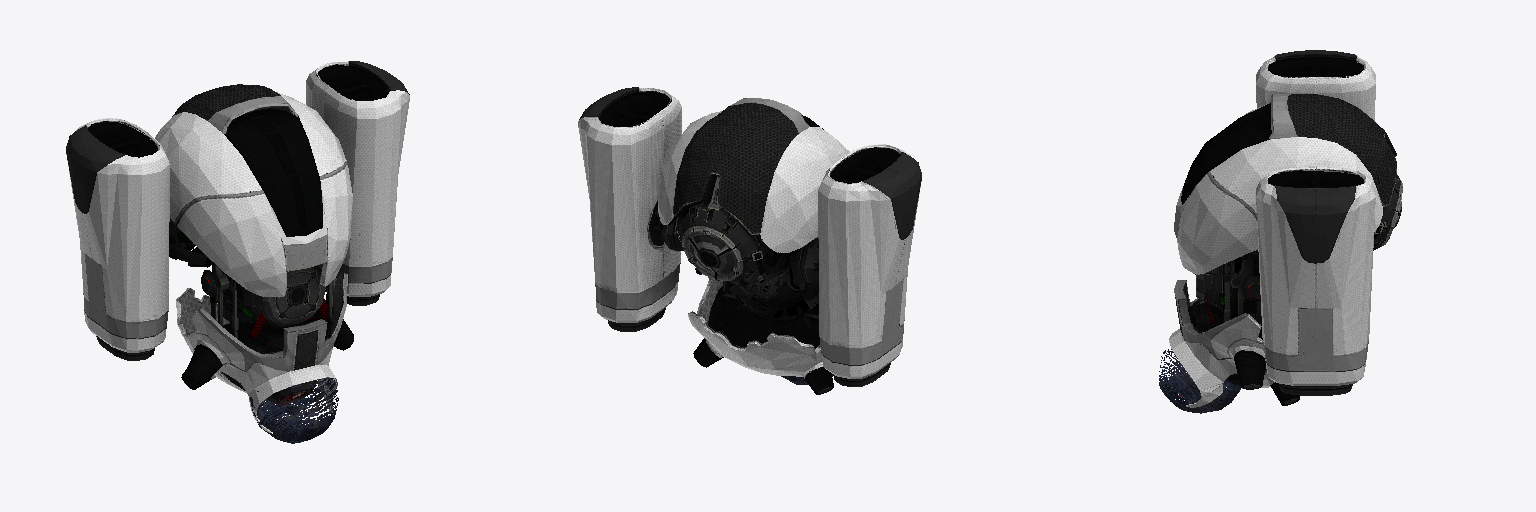
3 renders of one model, left to right at view 1: azimuth 30°, elevation 25°; view 2: azimuth 150°, elevation 25°; view 3: azimuth 270°, elevation 25°, orthographic.
Visible parts, largest first — view 1: 2afc8af0_obj, 2b29b090_obj; view 2: 2afc8af0_obj; view 3: 2afc8af0_obj, 2b29b090_obj.
Boxes of the visible parts, x1=… form: 2afc8af0_obj: x1=66, y1=61, x2=409, y2=438; 2b29b090_obj: x1=250, y1=378, x2=338, y2=443; 2afc8af0_obj: x1=578, y1=87, x2=921, y2=394; 2afc8af0_obj: x1=1163, y1=50, x2=1402, y2=407; 2b29b090_obj: x1=1159, y1=349, x2=1240, y2=413.
Bounding box in the file's own units: 2.54 × 2.33 × 1.69.
2 materials, 2 textured.